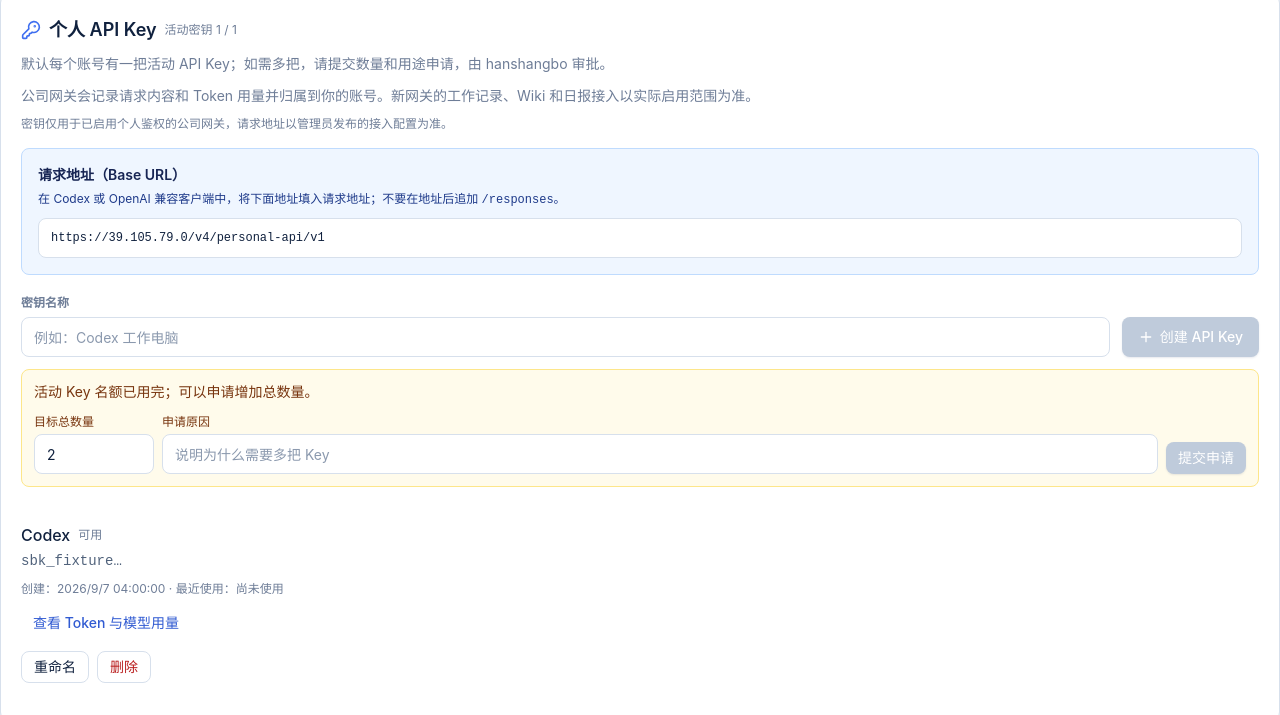
PersonalApiKeys › renames a key and requires confirmation before revoking it
Check: the text "Codex" is shown, box [21,523,70,547]
Click the button with aria-label "重命名 Codex" at [55, 667], box [21,651,89,683]
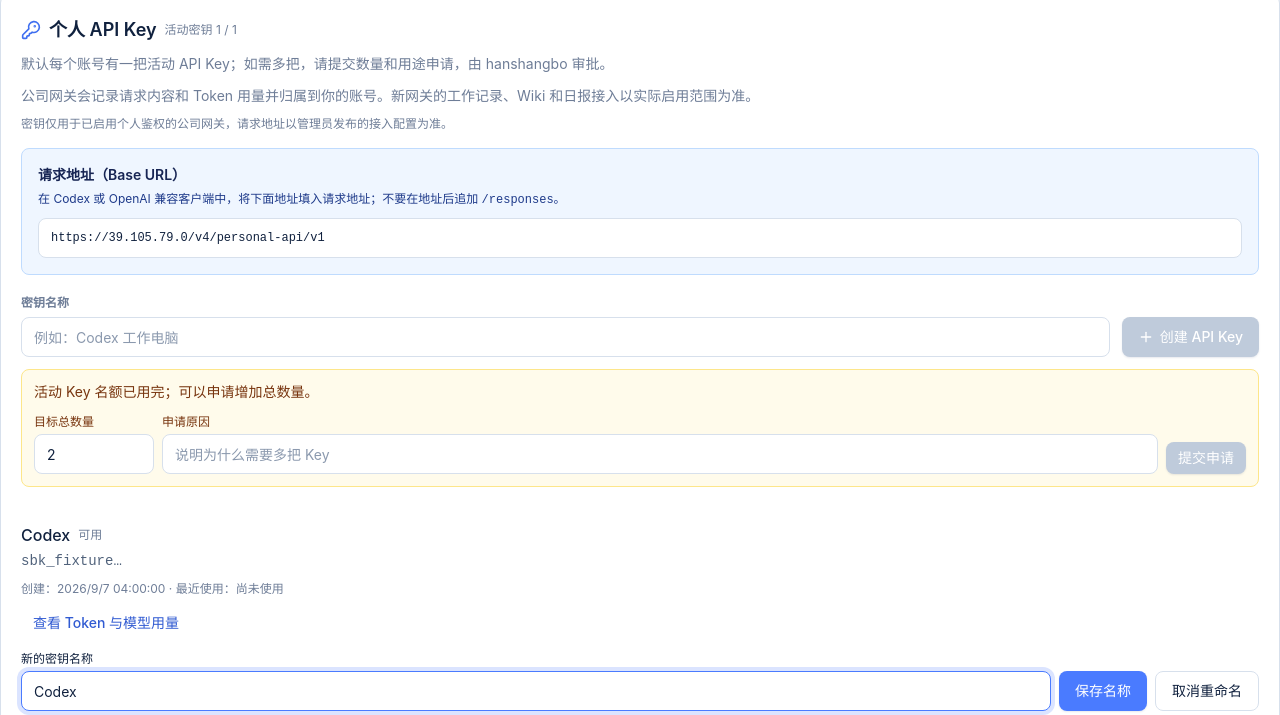
Replace the text in the field labelled "新的密钥名称" with "工作电脑" at [536, 691], box [21,671,1051,711]
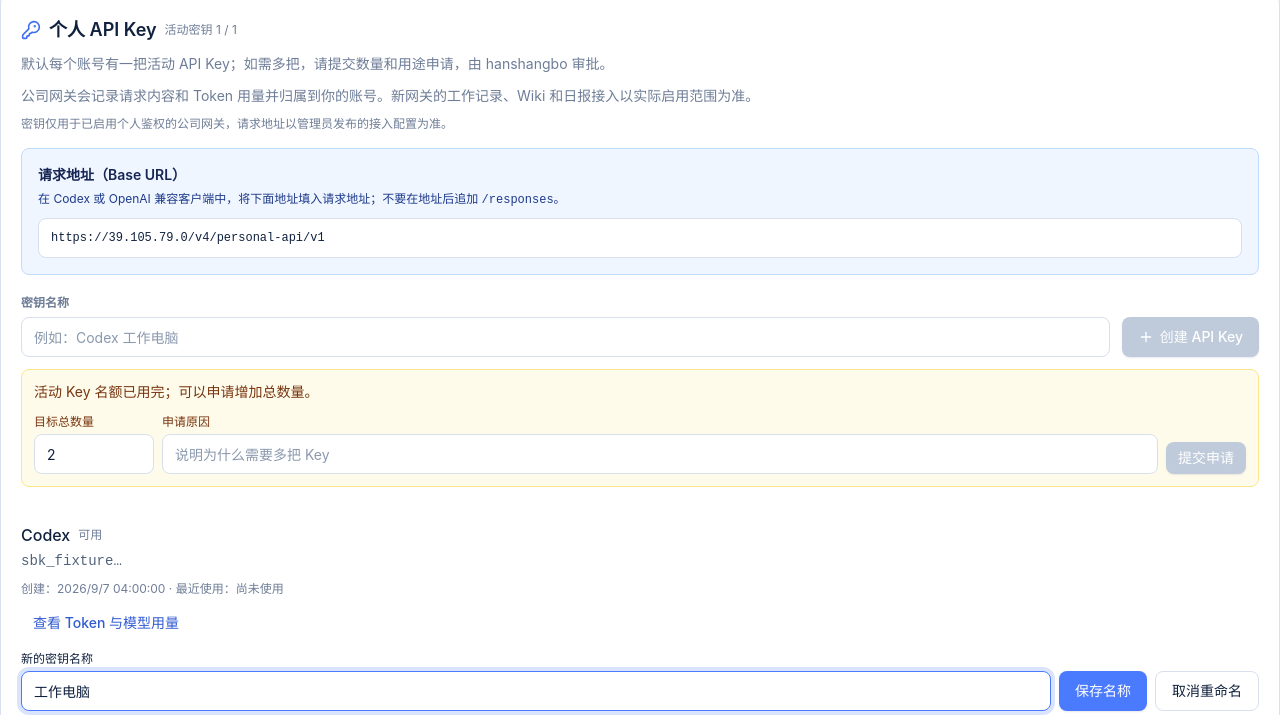
Click the button "保存名称" at [1103, 691], box [1059,671,1147,711]
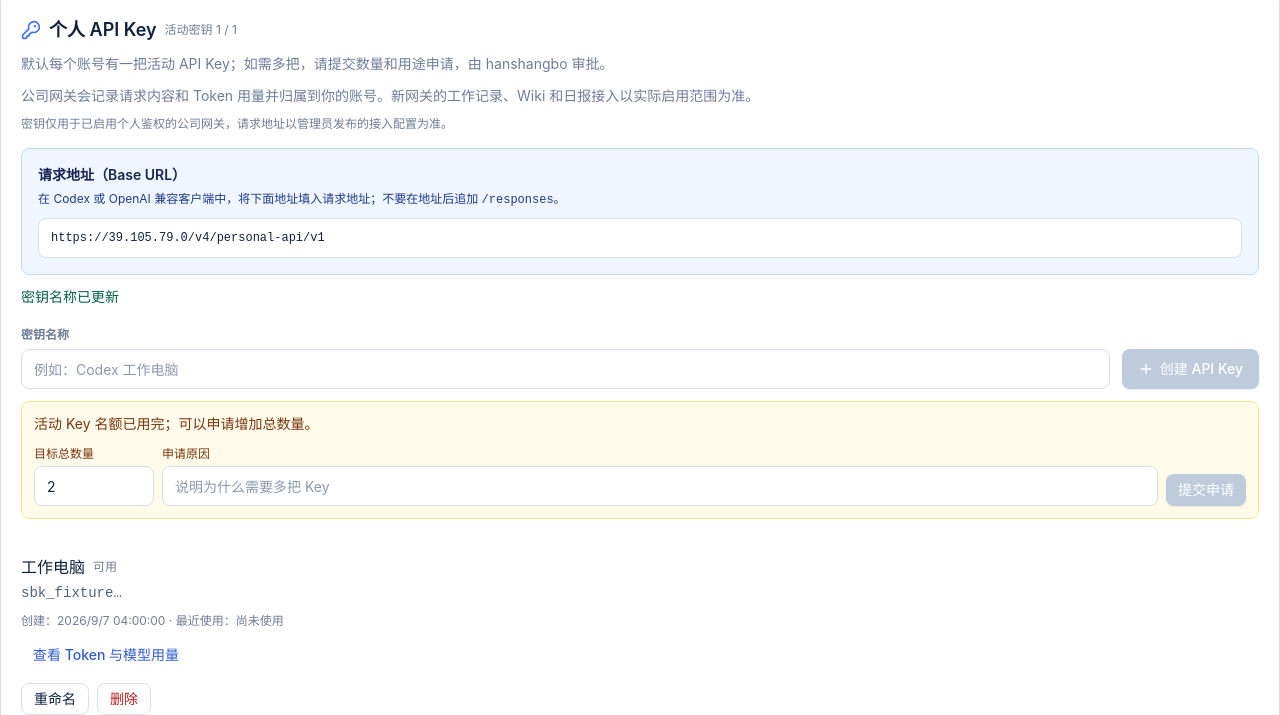
Check: the text "工作电脑" is shown, box [21,555,85,579]
Click the button with aria-label "删除 工作电脑" at [124, 699], box [97,683,151,714]
(page scrolled)
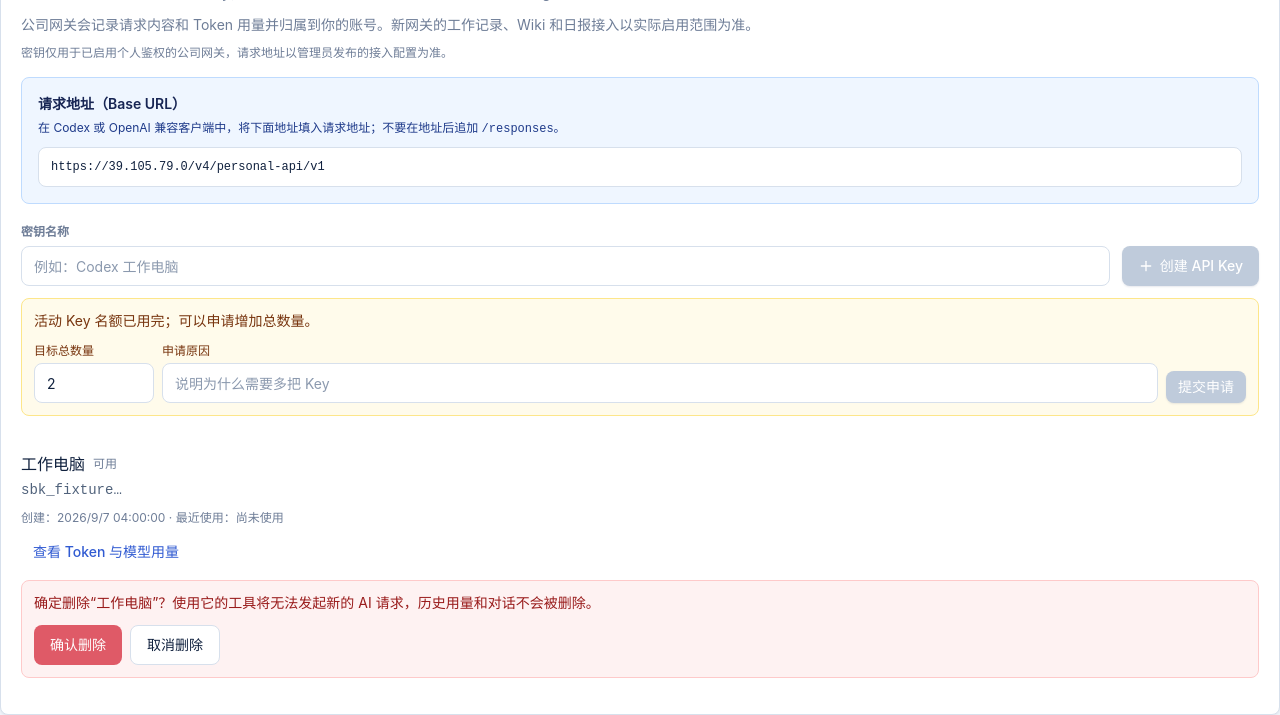
Click the button "确认删除" at [78, 645], box [34,625,122,665]
(page scrolled)
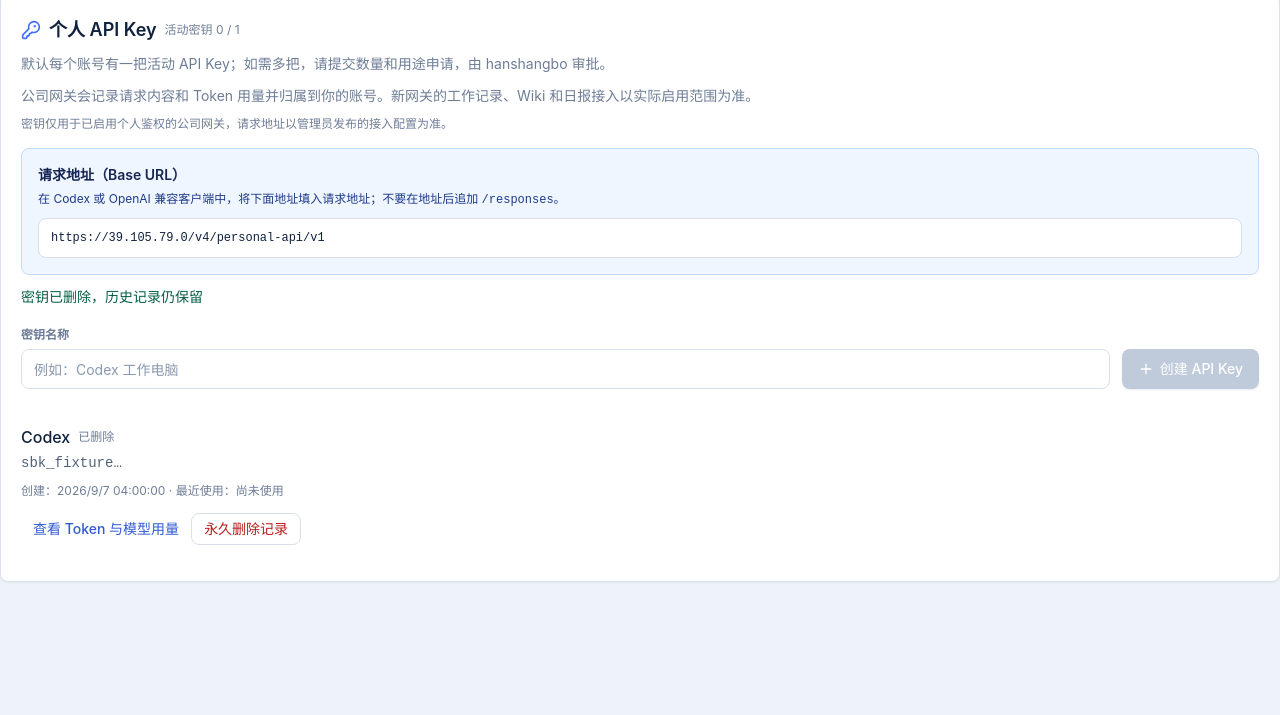
Check: the button "重命名" is not shown
Check: the text "已删除" is shown, box [78,429,114,445]
